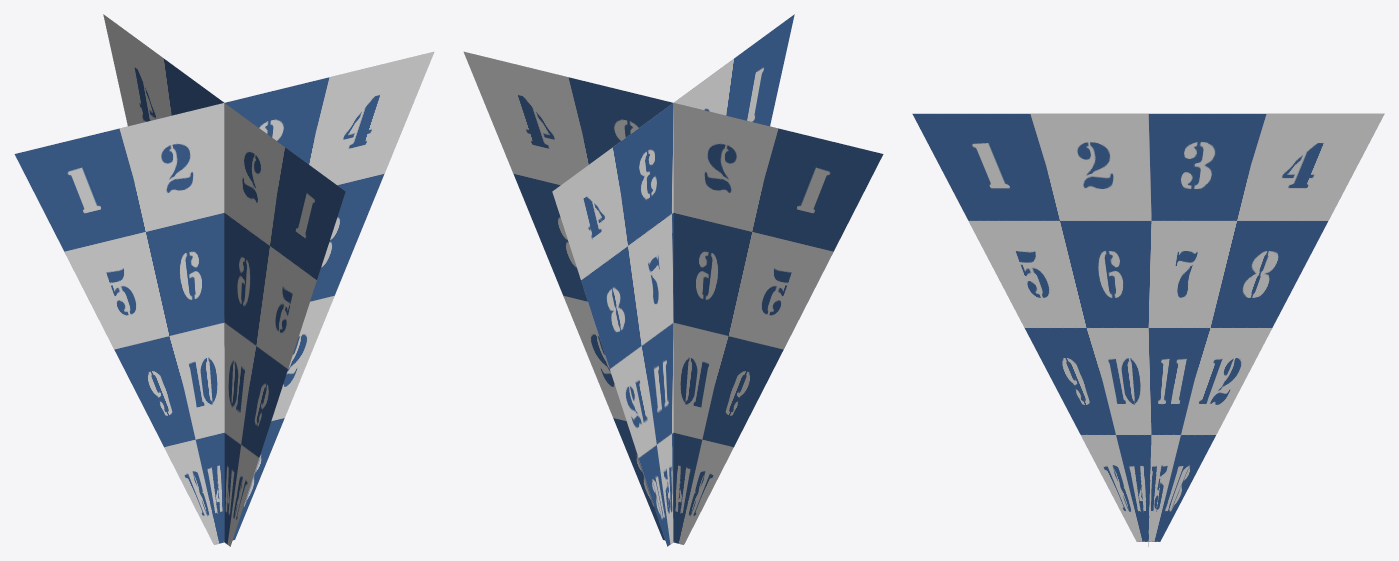
Rendered from Shinobu_Spl_CrossTri.fbx.
3 renders of one model, left to right at view 1: azimuth 30°, elevation 25°; view 2: azimuth 150°, elevation 25°; view 3: azimuth 270°, elevation 25°, orthographic. The views are drawn at different scales.
Parts seen in each view (by area): view 1: SM_d_e_P0011_V00_C00_SplTwm_CrossPlane_01; view 2: SM_d_e_P0011_V00_C00_SplTwm_CrossPlane_01; view 3: SM_d_e_P0011_V00_C00_SplTwm_CrossPlane_01.
Part boxes in pixels (x1,y1,x2,y2): SM_d_e_P0011_V00_C00_SplTwm_CrossPlane_01: (14, 14, 434, 546); SM_d_e_P0011_V00_C00_SplTwm_CrossPlane_01: (463, 14, 883, 546); SM_d_e_P0011_V00_C00_SplTwm_CrossPlane_01: (912, 113, 1384, 546).
Bounding box in the file's own units: 100 × 100 × 100.
